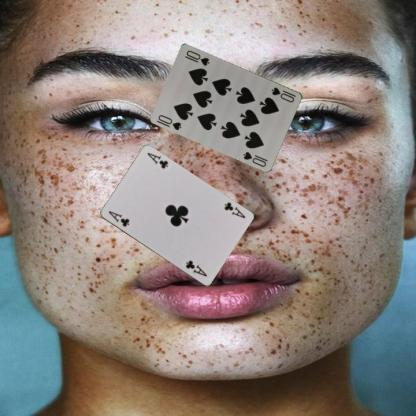10s: (268, 84, 296, 104), (156, 112, 183, 131)
Ac: (221, 200, 246, 220), (106, 208, 130, 228)
